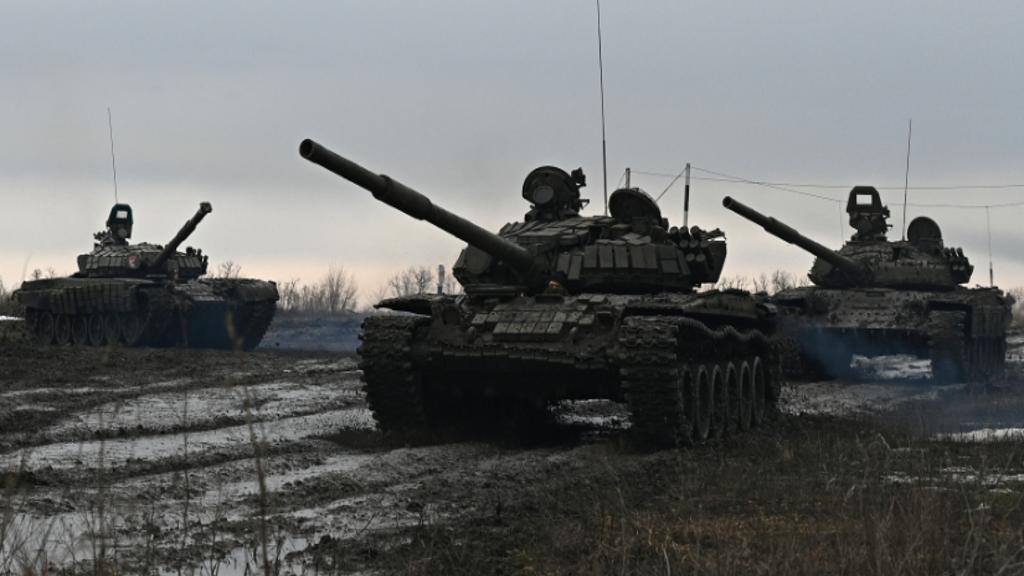TANK: (298, 134, 781, 444), (722, 191, 1011, 382), (12, 201, 281, 349)
